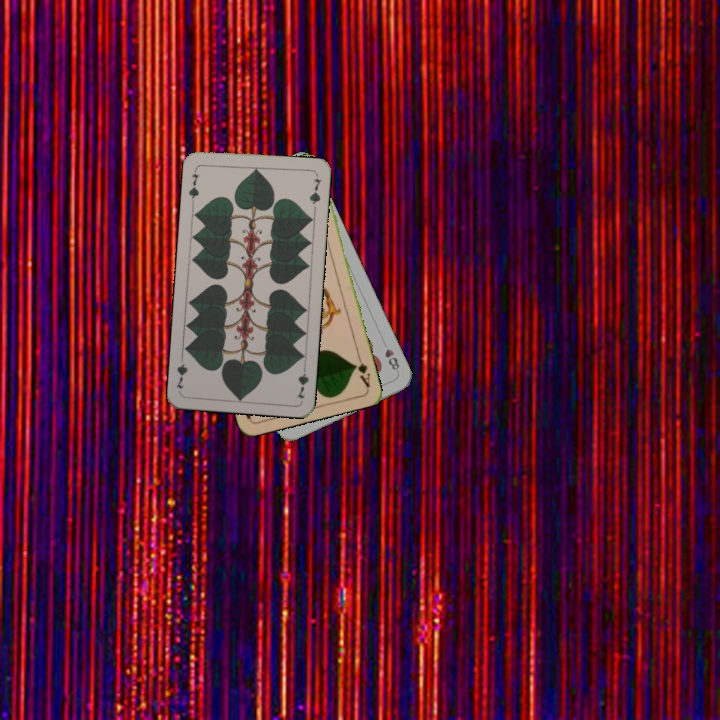G7: (184, 164, 202, 205), (293, 361, 311, 401)
GA: (350, 350, 373, 390)
H8: (381, 345, 402, 373)
